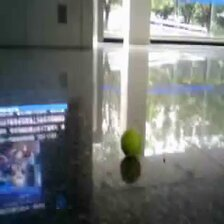tennis: (121, 129, 142, 155)
